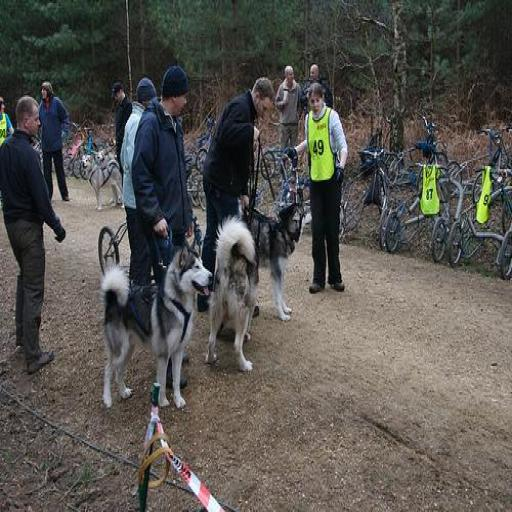dog_face: (172, 247, 216, 305), (280, 196, 318, 253)
